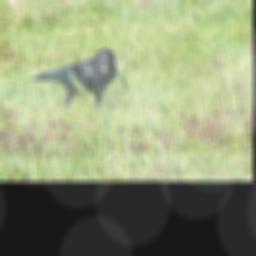Crow: (26, 49, 118, 111)
